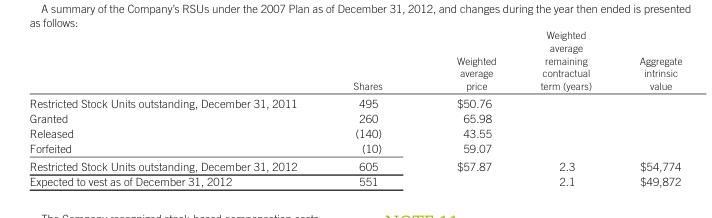table: (28, 28, 681, 187)
table column: (28, 28, 324, 187), (418, 28, 517, 187), (517, 28, 614, 187), (324, 28, 418, 187), (614, 28, 681, 187)
table column header: (28, 28, 681, 93)
table row: (28, 28, 681, 93), (28, 156, 681, 173), (28, 93, 681, 109), (28, 109, 681, 125), (28, 140, 681, 156), (28, 125, 681, 140), (28, 173, 681, 187)
